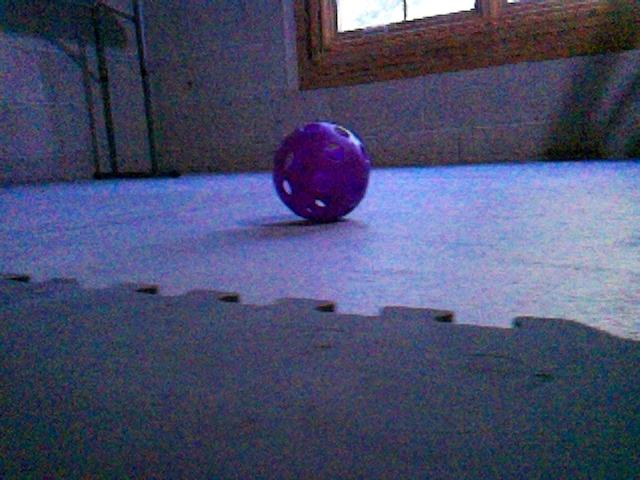Purple: (271, 121, 372, 223)
